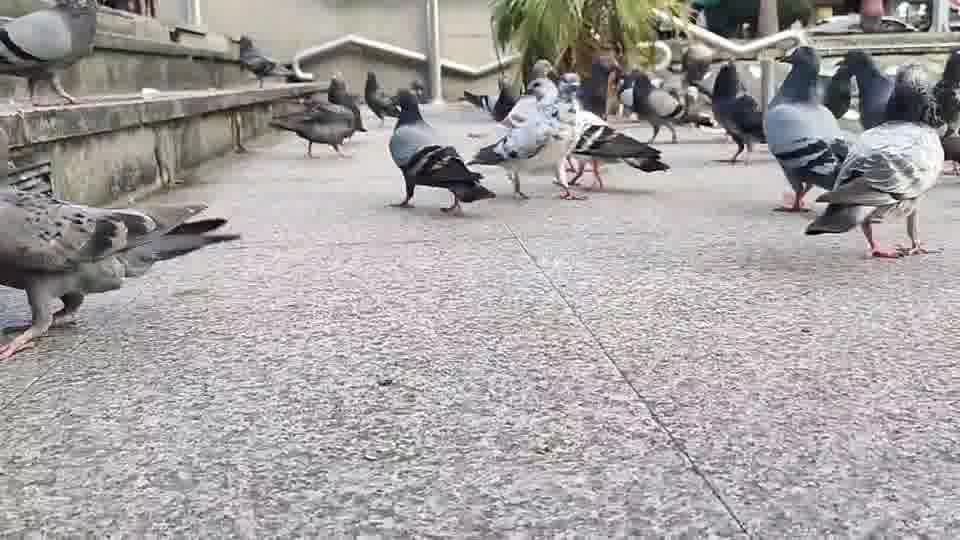Pigeon: (0, 182, 241, 360), (765, 44, 957, 258), (804, 117, 946, 258), (764, 45, 852, 212), (386, 88, 496, 215), (0, 0, 98, 106), (267, 75, 367, 159), (709, 59, 767, 164), (235, 33, 293, 89), (363, 70, 401, 126)
